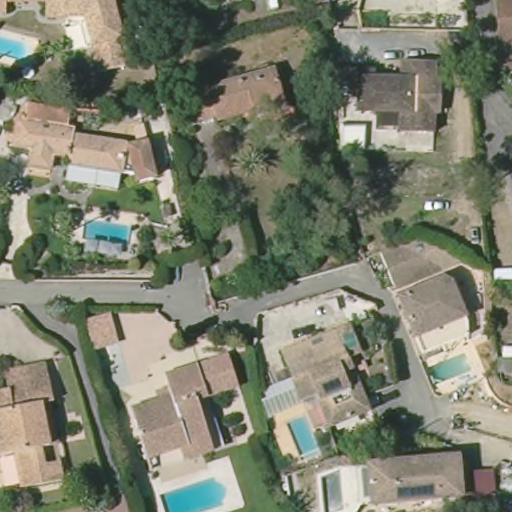pool: (155, 475, 230, 512), (73, 214, 137, 250), (282, 409, 323, 464), (426, 352, 474, 383), (1, 32, 38, 68)
